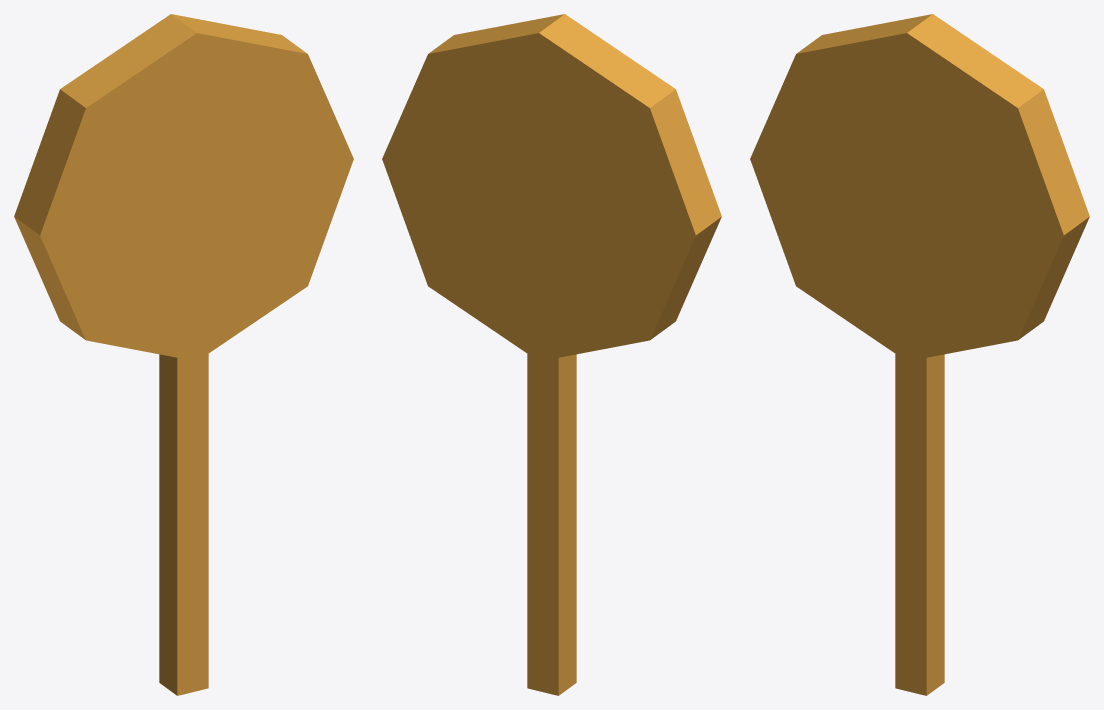
Rendered from lollipop-flat-b.fbx.
The picture shows the model from 3 angles, left to right: view 1: azimuth 30°, elevation 25°; view 2: azimuth 150°, elevation 25°; view 3: azimuth 330°, elevation 25°; orthographic projection.
Parts seen in each view (by area): view 1: lollipop-flat-b; view 2: lollipop-flat-b; view 3: lollipop-flat-b.
Part boxes in pixels (box(x1,y1,x2,y2)): lollipop-flat-b: box(14, 14, 353, 695); lollipop-flat-b: box(382, 14, 721, 695); lollipop-flat-b: box(750, 14, 1089, 695).
Size of the model in its own units: 0.1242 by 0.2503 by 0.0178.
